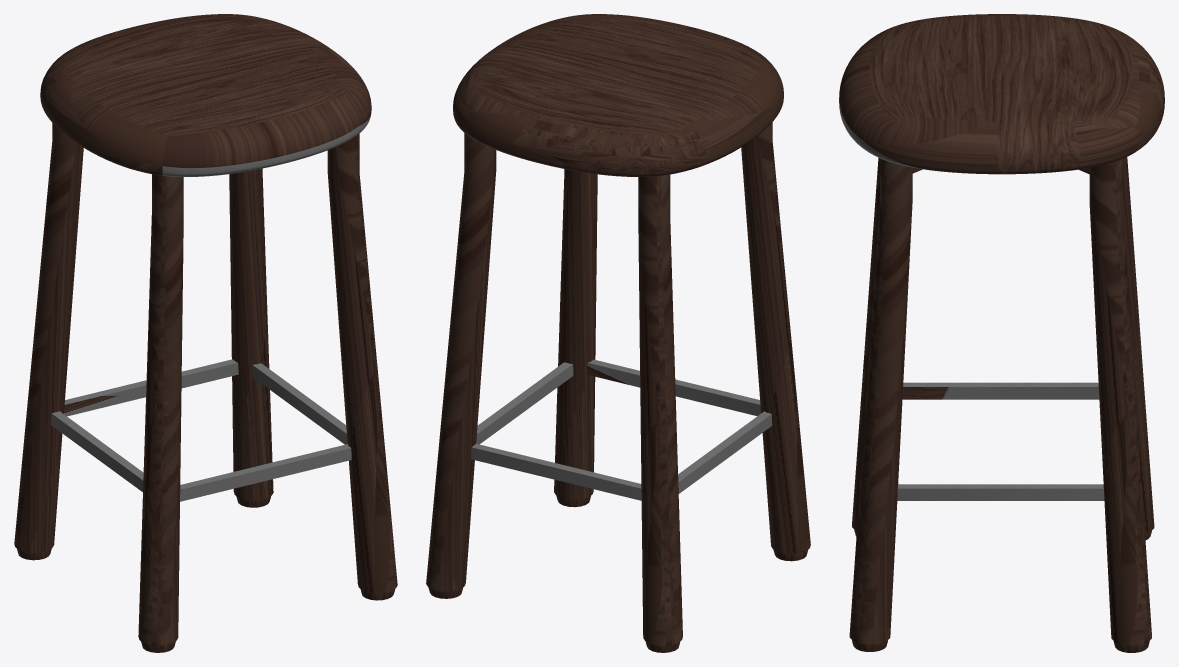
File: BarStool.obj
3 views of the same model, side by side, from view 1: azimuth 30°, elevation 25°; view 2: azimuth 150°, elevation 25°; view 3: azimuth 270°, elevation 25° (orthographic). The views are drawn at different scales.
Visible parts, largest first — view 1: Cylinder.003; view 2: Cylinder.003; view 3: Cylinder.003.
Part boxes in pixels (bbox=[...]): Cylinder.003: bbox=[14, 14, 397, 652]; Cylinder.003: bbox=[426, 14, 810, 652]; Cylinder.003: bbox=[839, 14, 1164, 652].
Size of the model in its own units: 0.4599 by 0.8136 by 0.4599.
